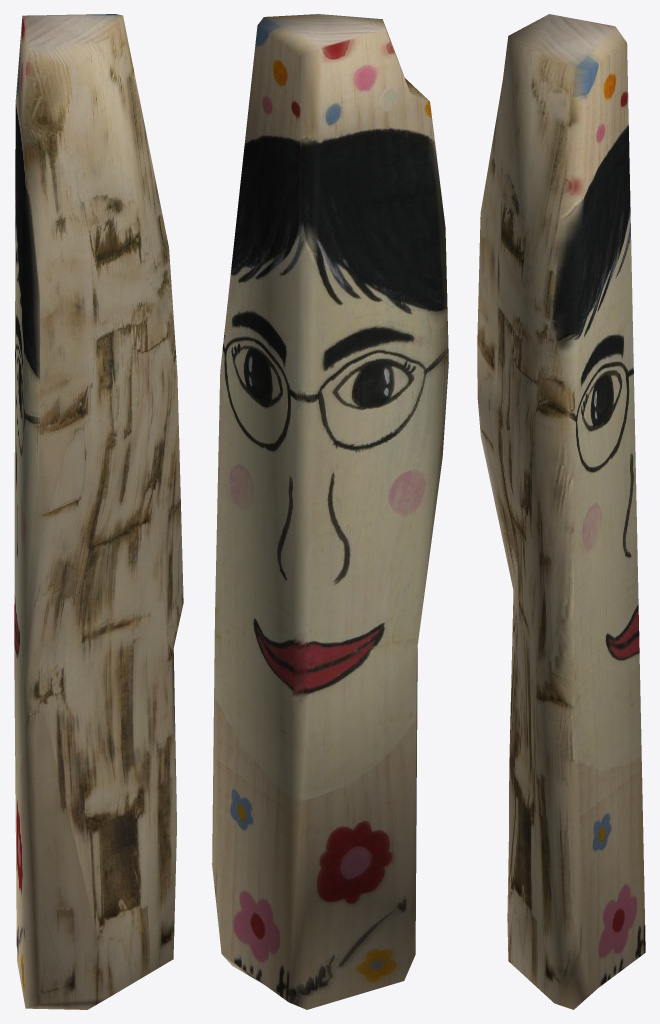
Rendered from 485_G_KYOC_124.obj.
The picture shows the model from 3 angles, left to right: view 1: azimuth 30°, elevation 25°; view 2: azimuth 150°, elevation 25°; view 3: azimuth 270°, elevation 25°; orthographic projection. The views are drawn at different scales.
Parts seen in each view (by area): view 1: 485_G_KYOC_124.002; view 2: 485_G_KYOC_124.002; view 3: 485_G_KYOC_124.002.
Boxes of the visible parts, x1=… form: 485_G_KYOC_124.002: x1=14, y1=14, x2=183, y2=1009; 485_G_KYOC_124.002: x1=212, y1=14, x2=448, y2=1009; 485_G_KYOC_124.002: x1=477, y1=14, x2=645, y2=1009.
Bounding box in the file's own units: 20.92 × 103 × 16.95.
1 material, 1 textured.
